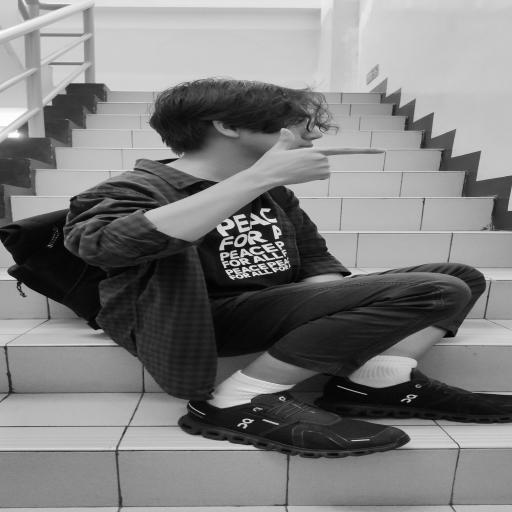next: (223, 120, 409, 198)
